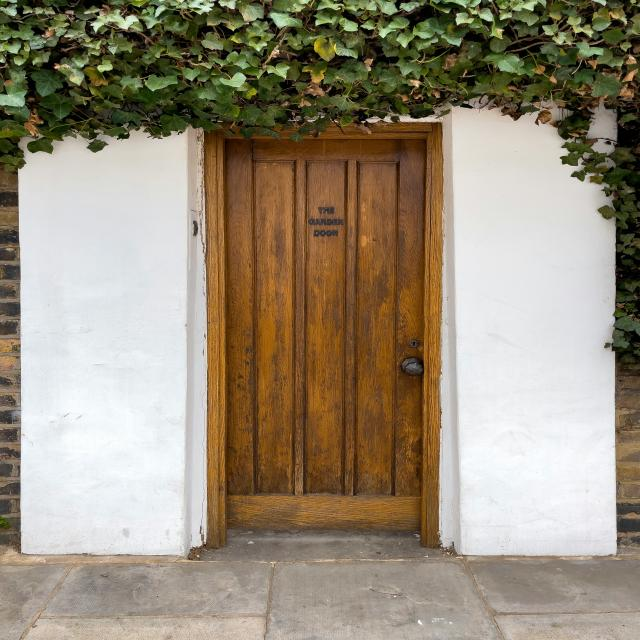door-knob: (400, 358, 424, 375)
